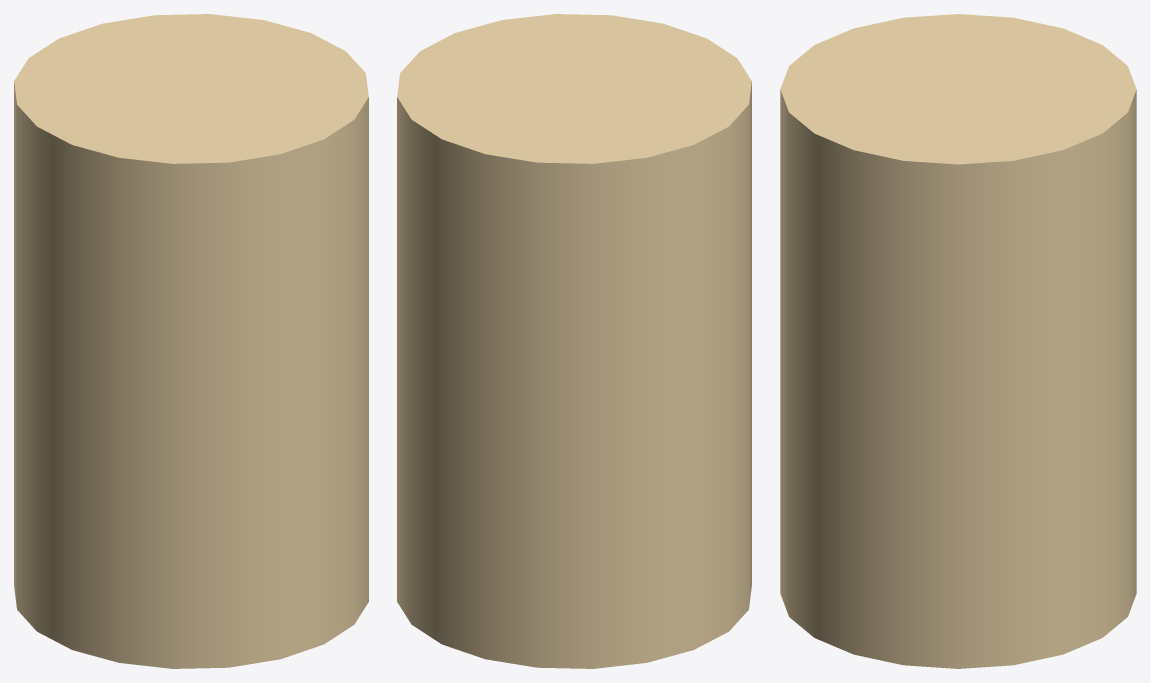
File: mush_stem.glb
3 views of the same model, side by side, from view 1: azimuth 30°, elevation 25°; view 2: azimuth 150°, elevation 25°; view 3: azimuth 270°, elevation 25° (orthographic).
Visible parts, largest first — view 1: stem; view 2: stem; view 3: stem.
Part boxes in pixels (box(x1,y1,x2,y2)): stem: box(14, 14, 368, 668); stem: box(397, 14, 751, 668); stem: box(780, 14, 1136, 668).
Size of the model in its own units: 0.64 by 1 by 0.64.
